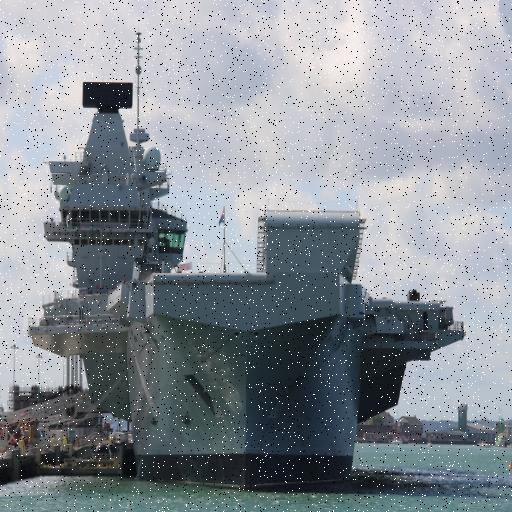Portanaves: (29, 29, 470, 495)
